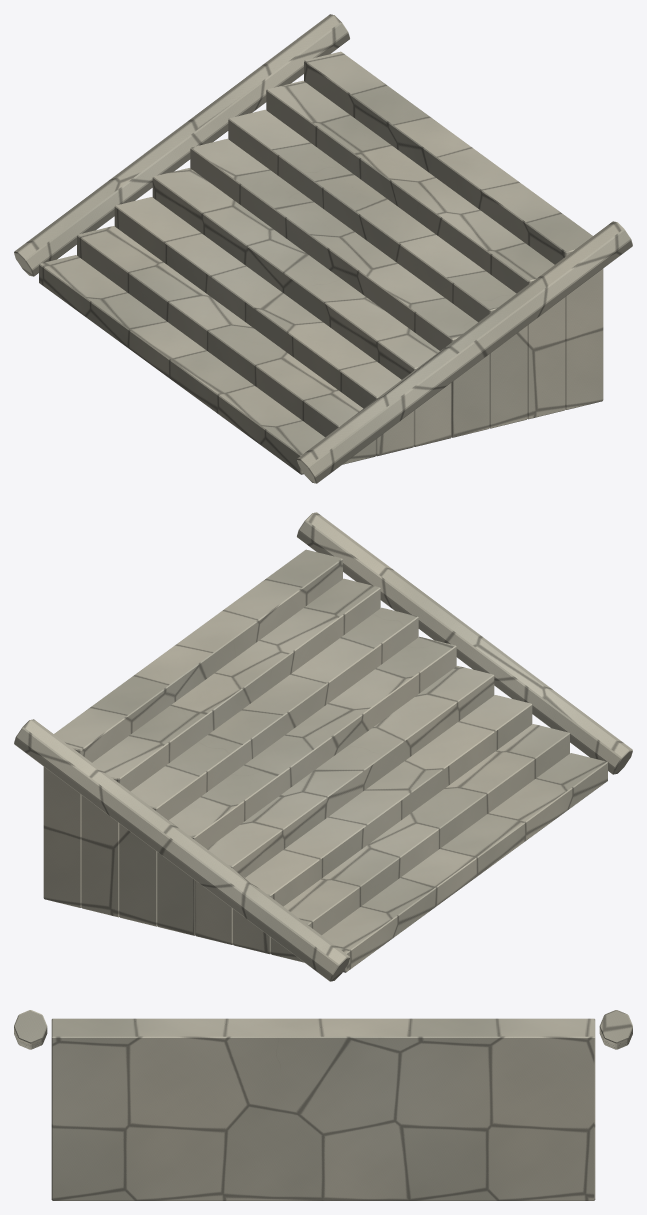
Rendered from t04_stairs.fbx.
The picture shows the model from 3 angles, top to bottom: view 1: azimuth 30°, elevation 25°; view 2: azimuth 150°, elevation 25°; view 3: azimuth 270°, elevation 25°; orthographic projection. The views are drawn at different scales.
Visible parts, largest first — view 1: t04_stairs.004; view 2: t04_stairs.004; view 3: t04_stairs.004.
Boxes of the visible parts, x1,y1,x2,y2 form: t04_stairs.004: (14,14,632,483); t04_stairs.004: (14,512,632,981); t04_stairs.004: (14,1010,632,1200).
Bounding box in the file's own units: 43746 × 27781 × 15050.
